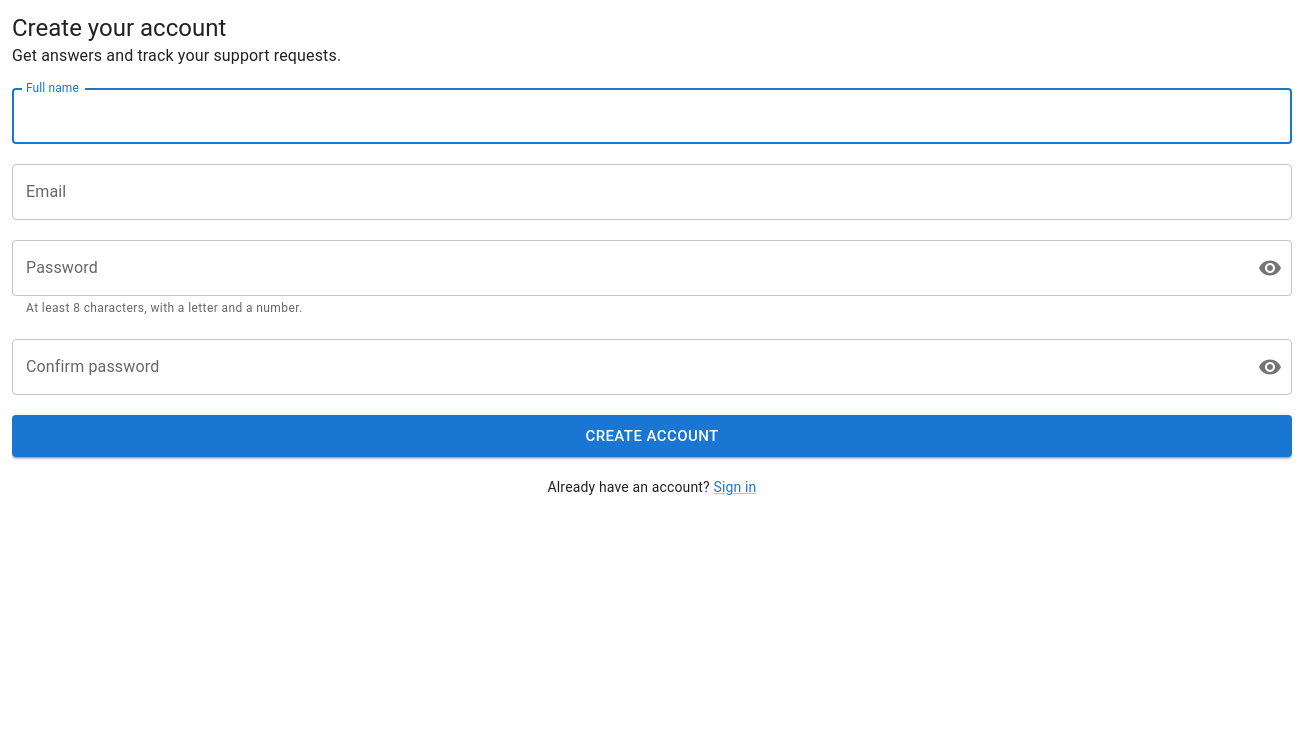
Test case: Register page › requires matching passwords
Type "Casey Customer" into the field labelled "Full name" at (652, 116), box 12,88 -> 1292,144
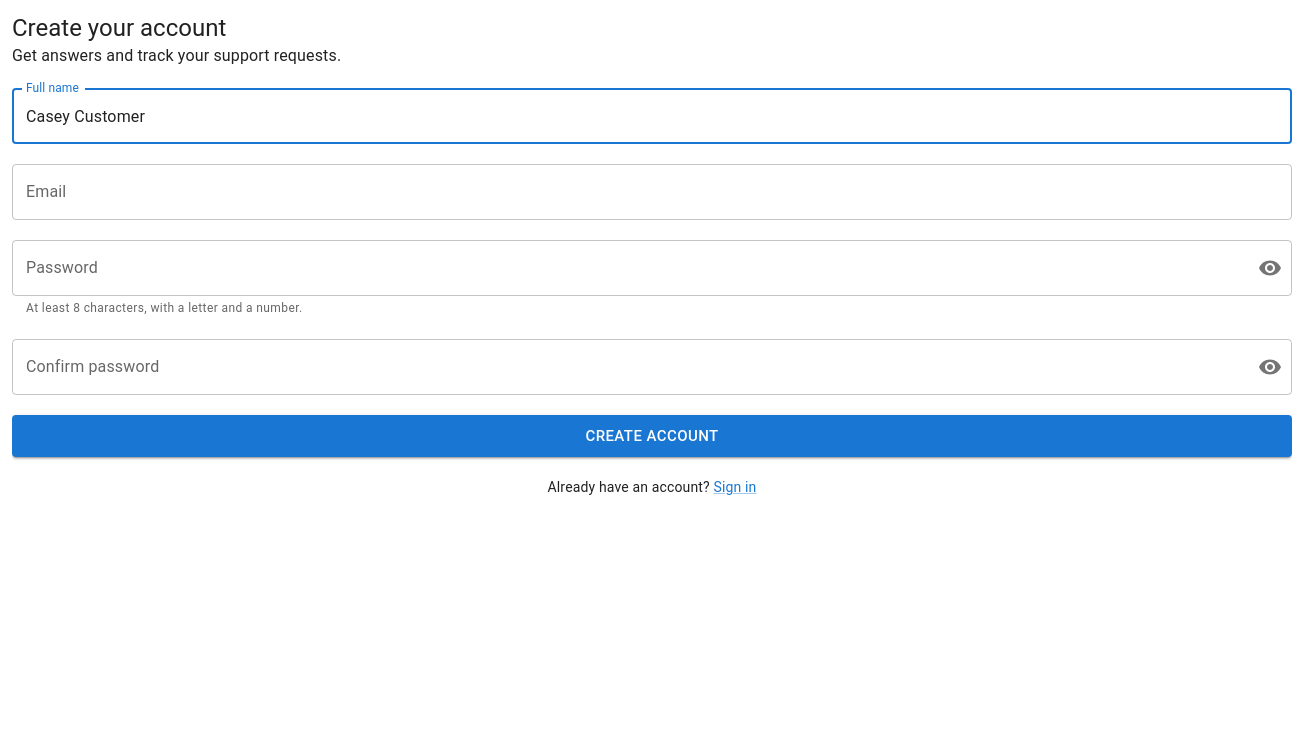
Type "casey@example.com" into the field labelled "Email" at (652, 192), box 12,164 -> 1292,220
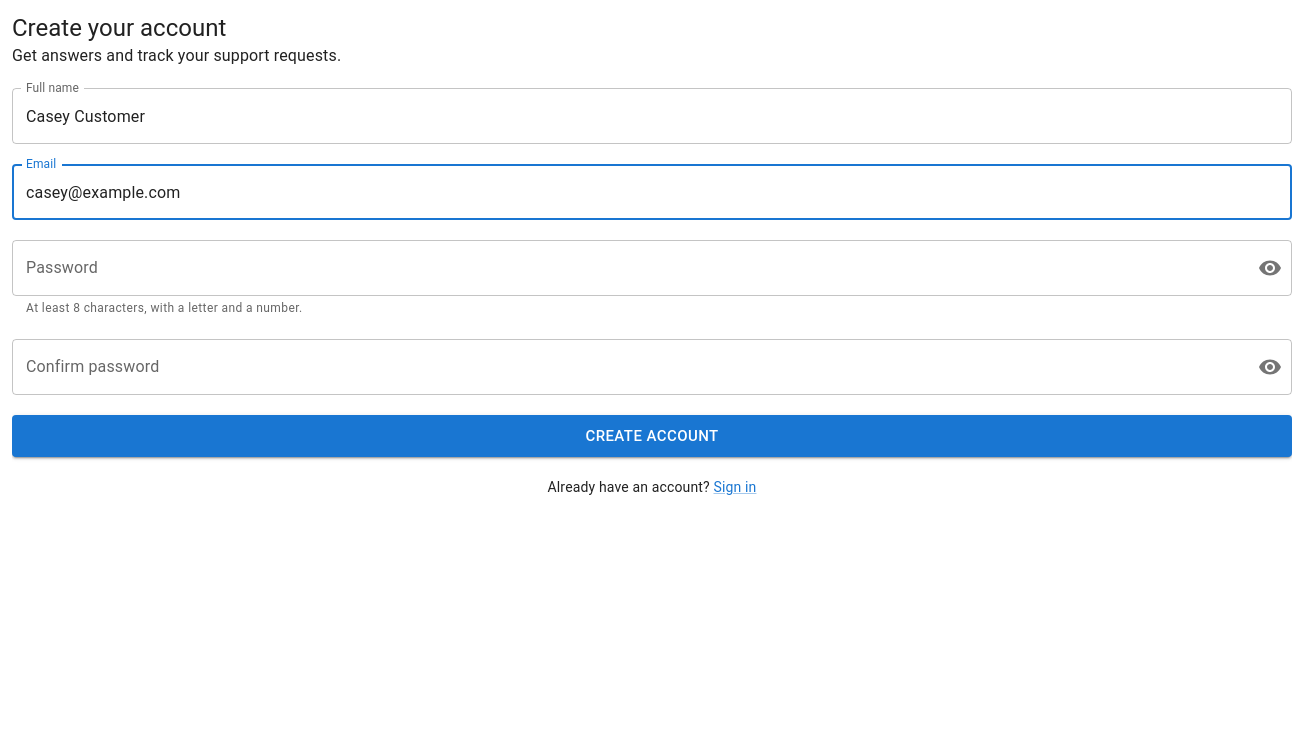
Type "Password123" into the password field labelled "Password" at (627, 268), box 12,240 -> 1242,296
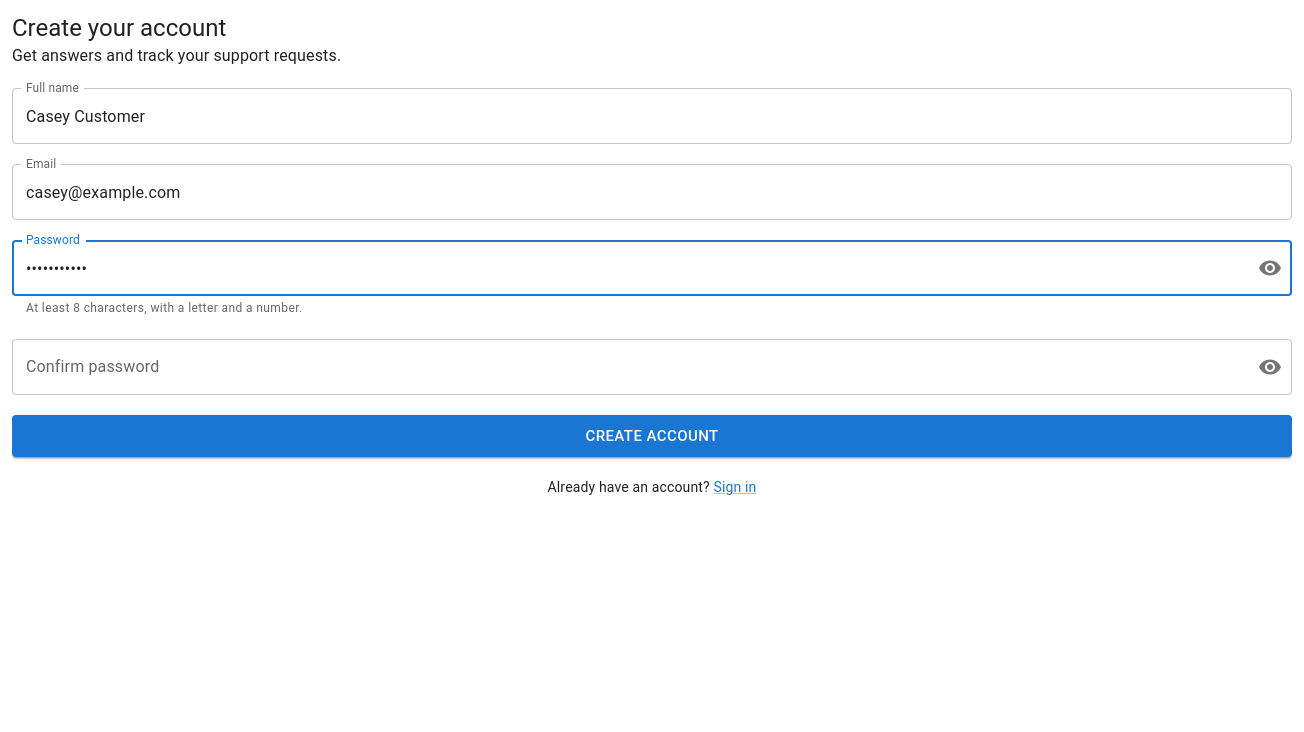
Type "Password124" into the password field labelled "Confirm password" at (627, 367), box 12,339 -> 1242,395
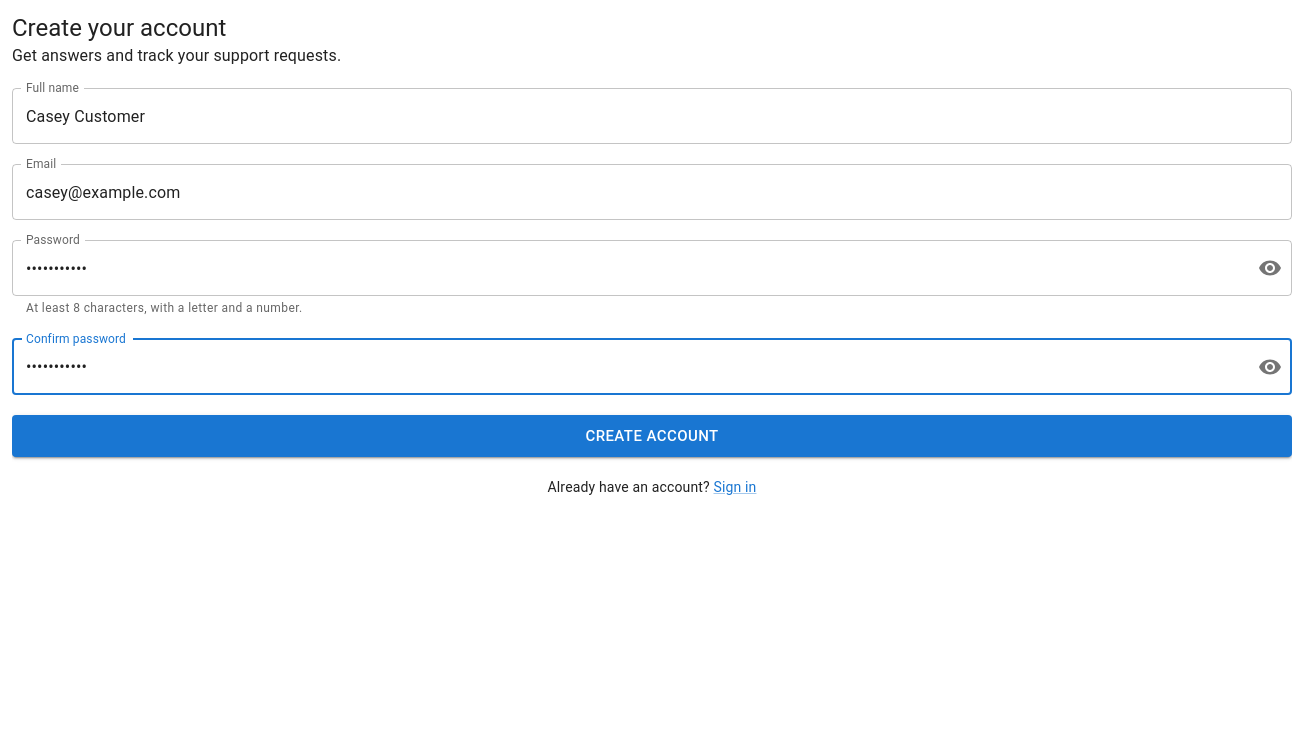
Click the button "Create account" at (652, 436), box 12,415 -> 1292,457
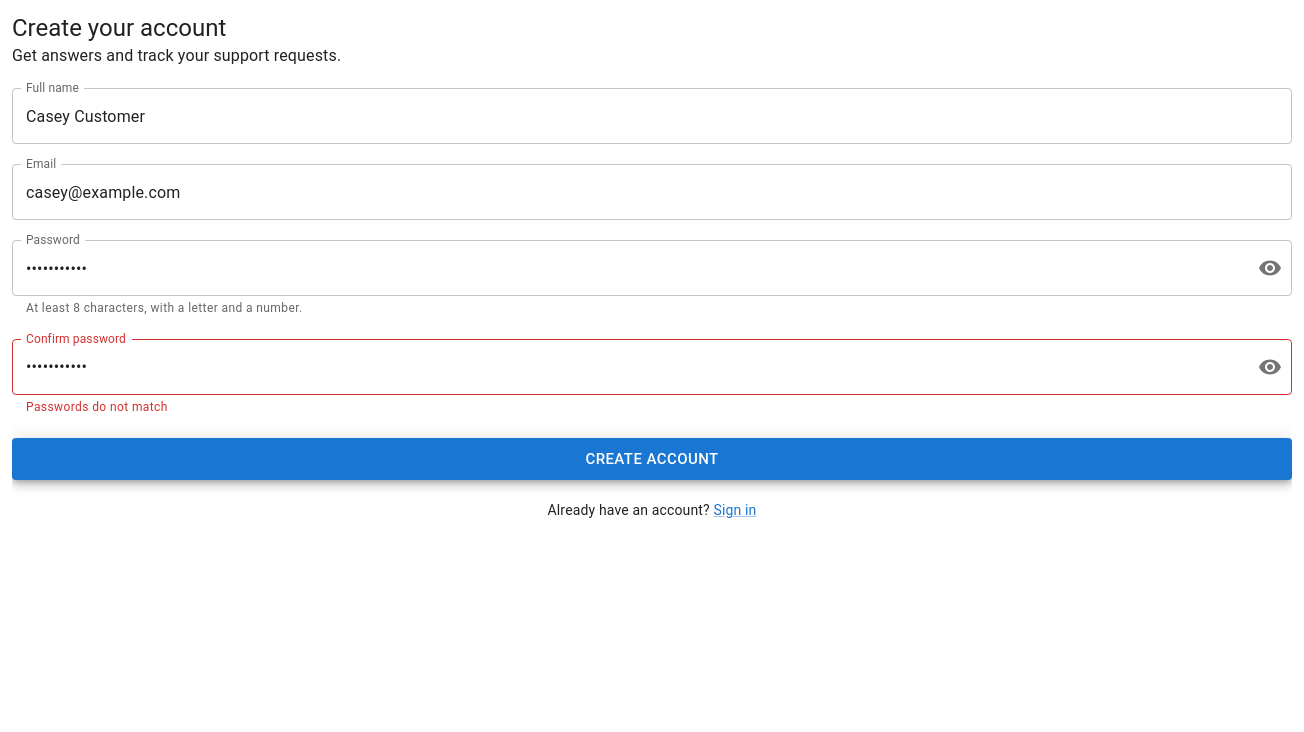
Expected: the text "Passwords do not match" is shown, 26,400 -> 168,414
